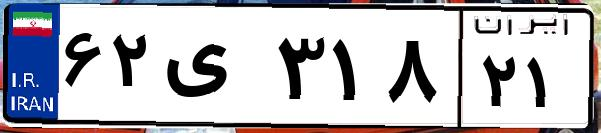1: (330, 28, 385, 110), (525, 38, 570, 115)
2: (475, 38, 525, 113), (110, 28, 158, 98)
3: (270, 28, 330, 110)
6: (57, 26, 110, 100)
8: (385, 28, 445, 110)
ی: (158, 20, 270, 120)
